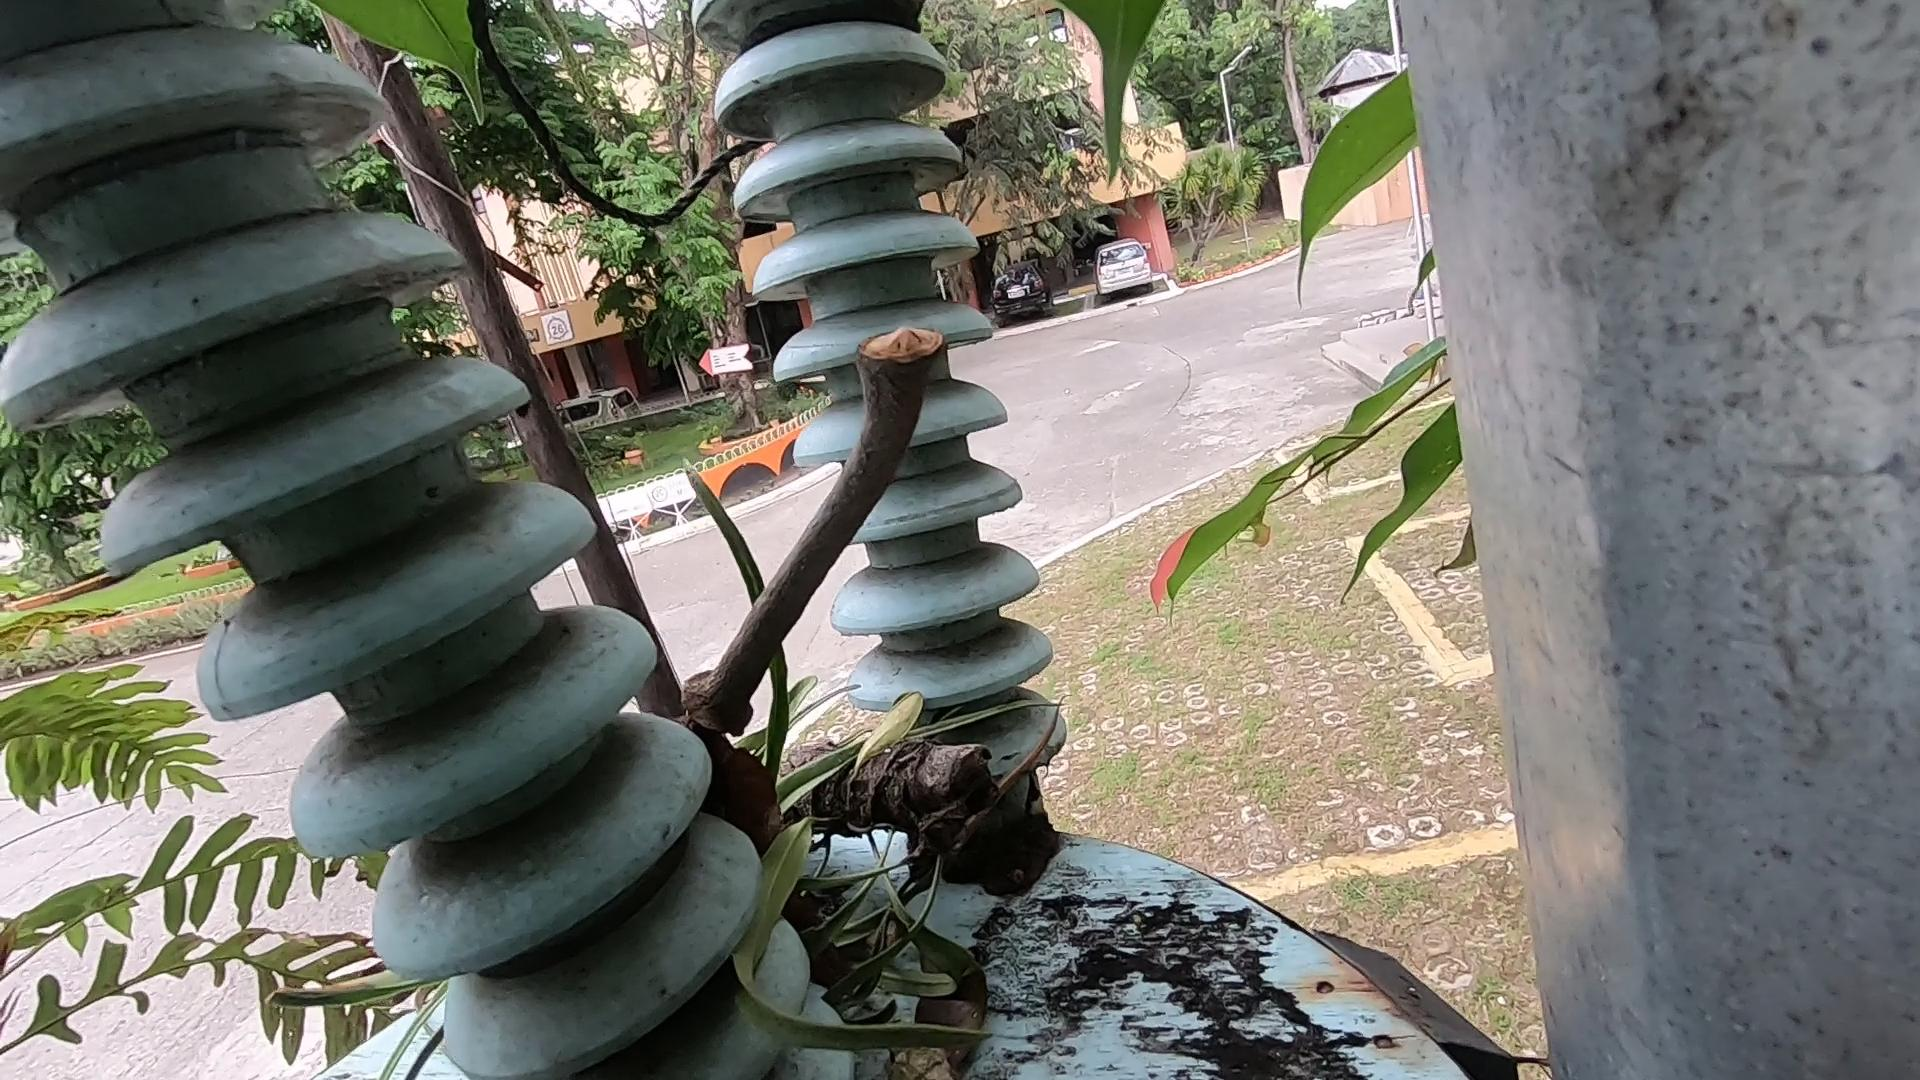branch with leaves: (641, 657, 1093, 1063)
leaf: (746, 305, 1004, 727)
